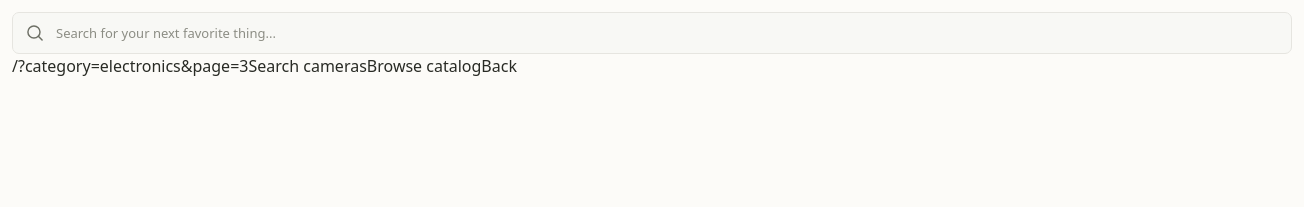
Test case: ProductSearchBar › submits a trimmed, encoded query with Enter and resets catalog pagination
Type "  headphones & stand  " into the dropdown named "Search products". click: (674, 33)
box: [56, 13, 1291, 53]
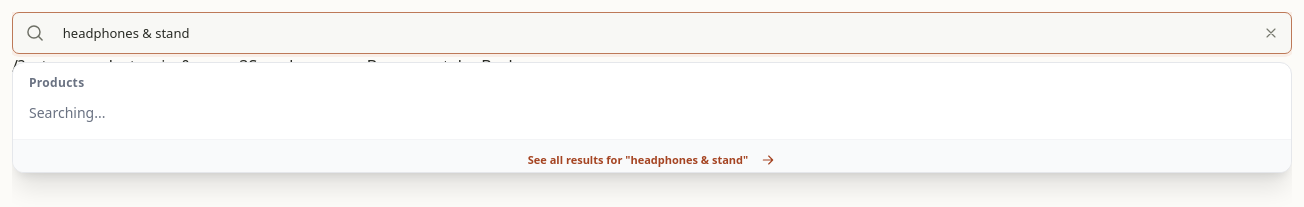
Press Enter
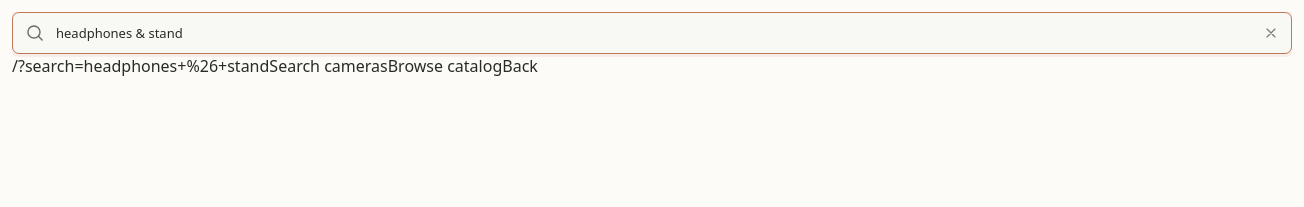
expect the text named "Current route" reads "/?search=headphones+%26+stand": met, box [12, 55, 269, 77]
expect the dropdown named "Search products" is collapsed: met, box [56, 13, 1255, 53]
